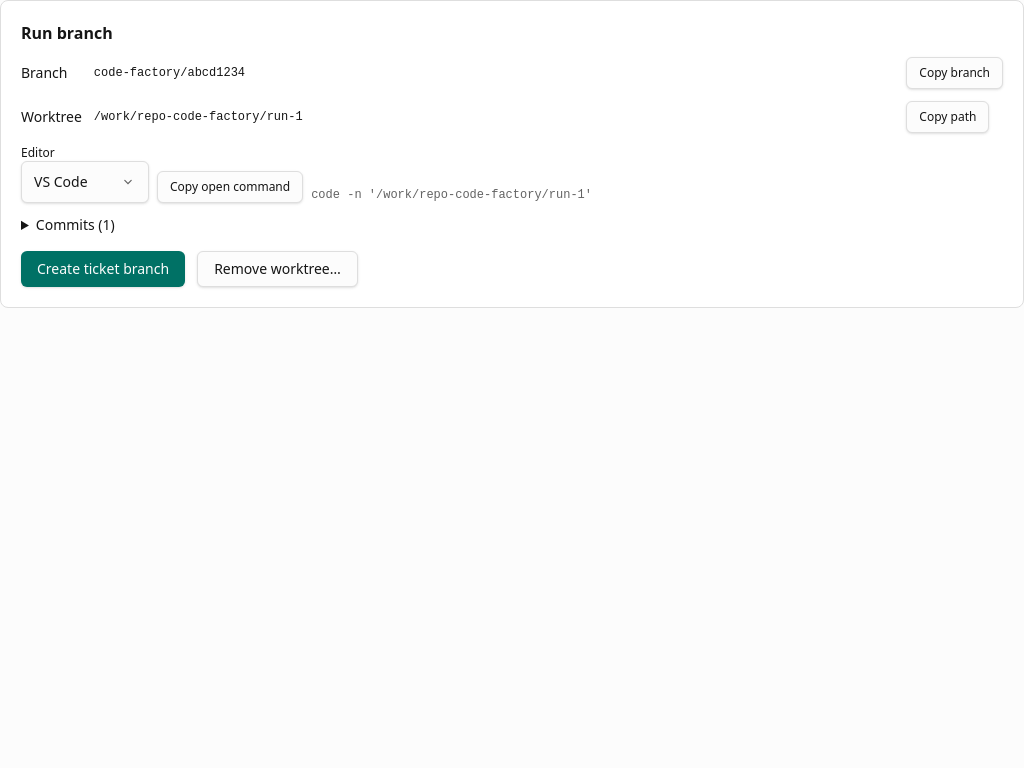
Test: run branch panel › pre-fills the ticket ID, offers a suggested name, and returns focus after creating
Click the button "Create ticket branch".
click(103, 269)  # box [21, 251, 185, 287]
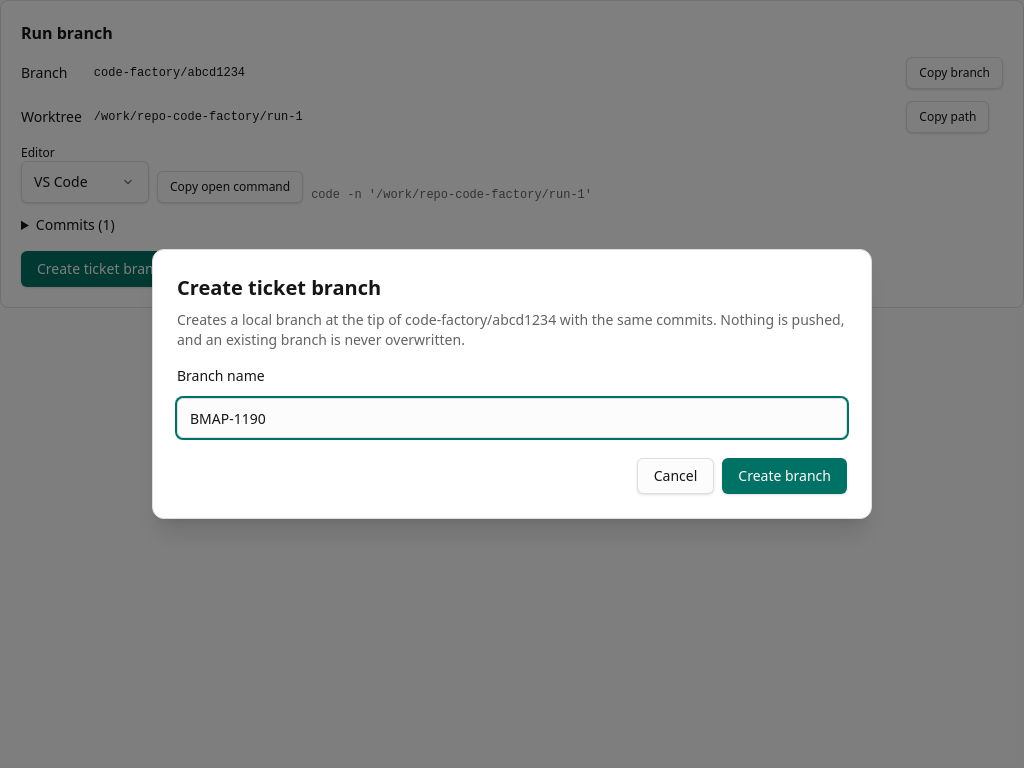
Now the field labelled "Branch name" holds "BMAP-1190", box [177, 398, 847, 438]
Click the button "Create branch".
click(785, 476)  # box [722, 458, 847, 494]
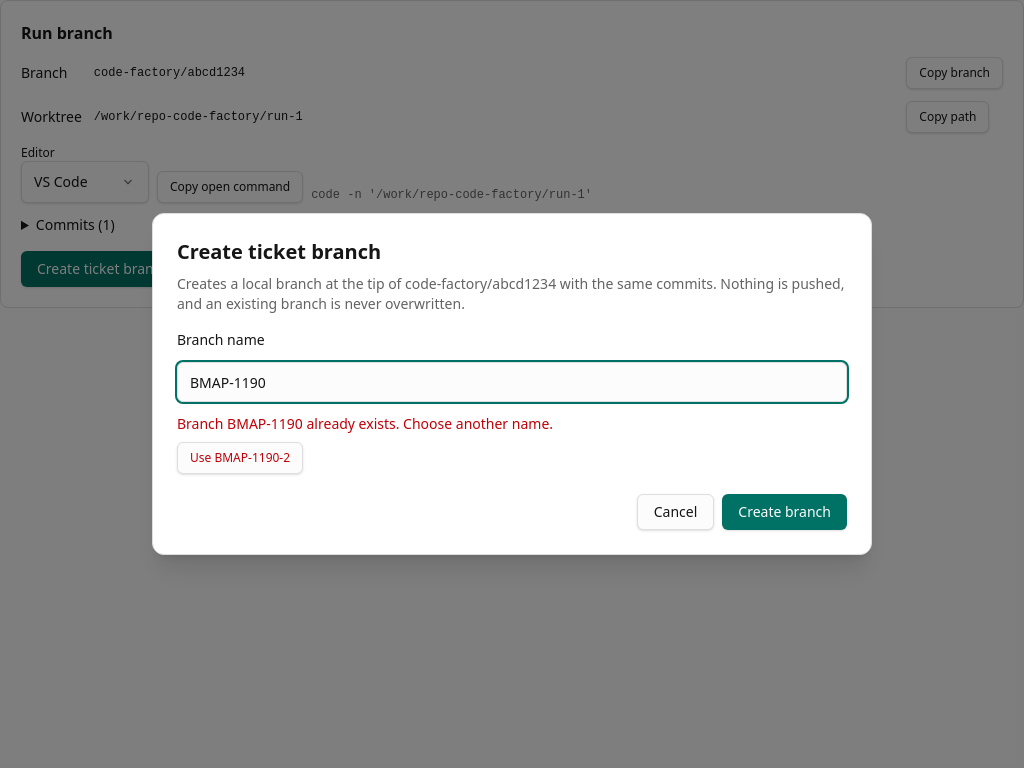
Now the message shows "already exists", box [177, 414, 553, 433]
Click the button "Use BMAP-1190-2".
click(240, 458)  # box [177, 442, 303, 474]
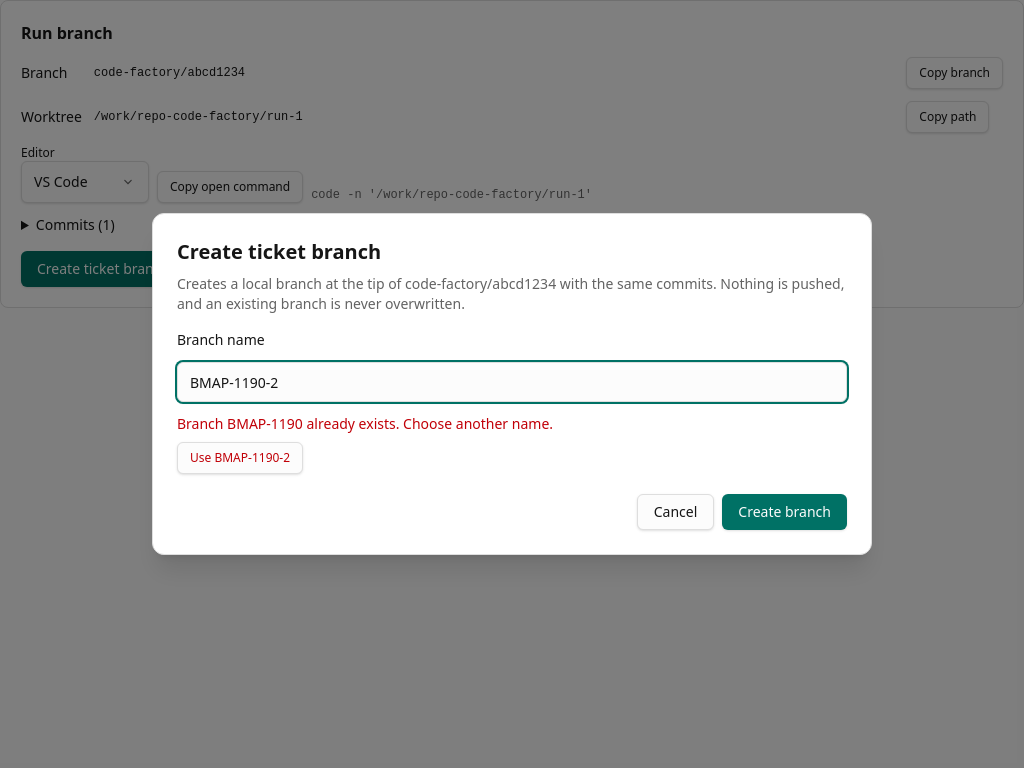
Click the button "Create branch".
click(785, 512)  # box [722, 494, 847, 530]
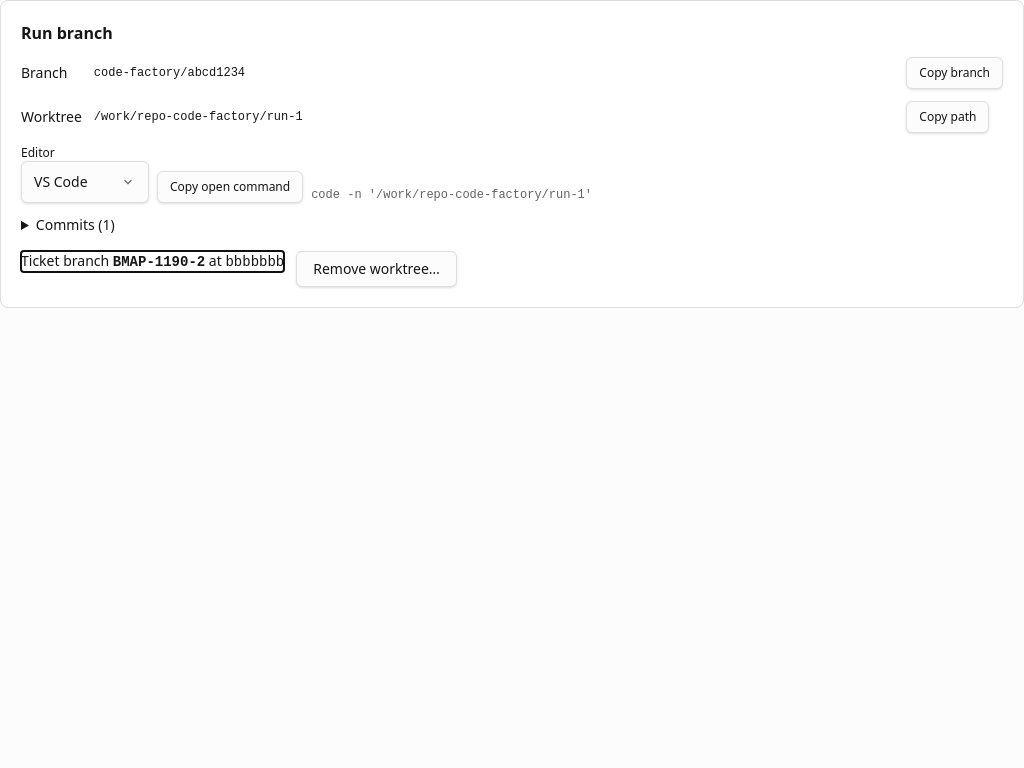
Now the dialog is gone
Now the text "Ticket branch BMAP-1190-2 at bbbbbbb" is shown, box [21, 251, 284, 272]
